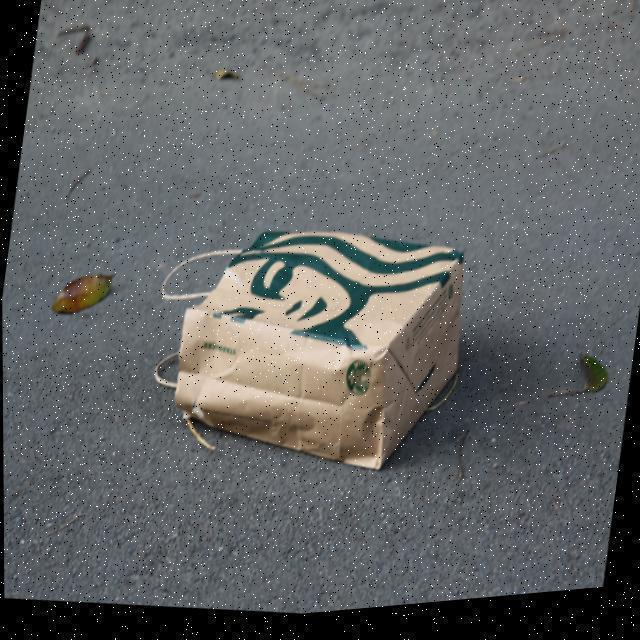Paper_Bag: (140, 207, 478, 504)
